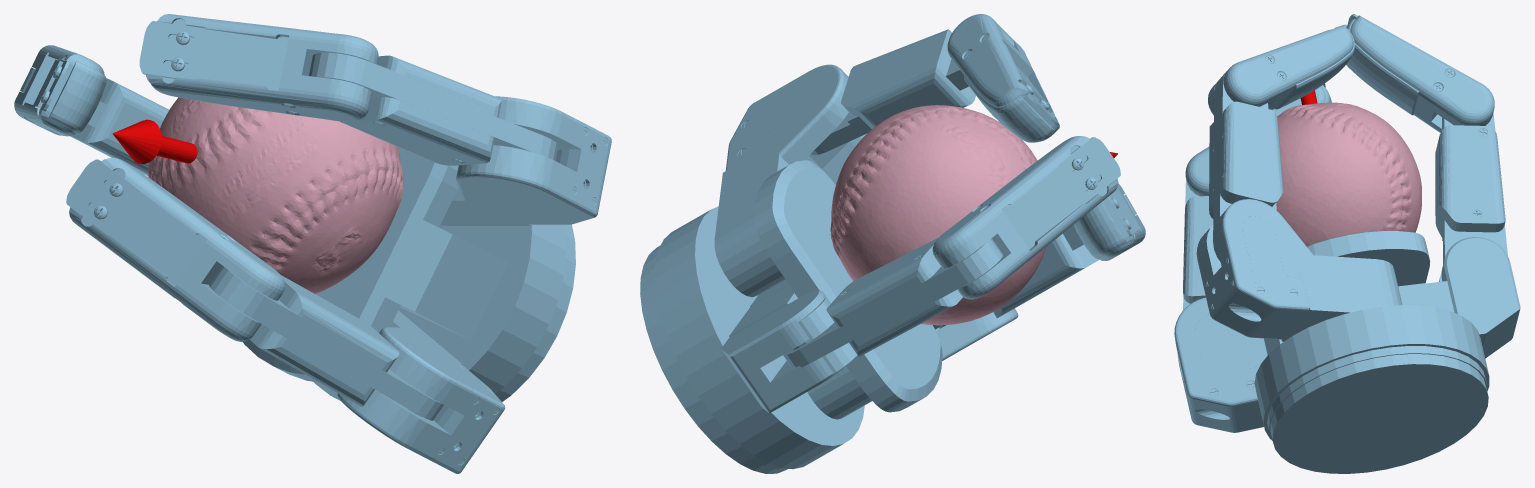
3 views of the same model, side by side, from view 1: azimuth 30°, elevation 25°; view 2: azimuth 150°, elevation 25°; view 3: azimuth 270°, elevation 25° (orthographic). The views are drawn at different scales.
Visible parts, largest first — view 1: world, baseball.stl; view 2: world, baseball.stl; view 3: world, baseball.stl.
Boxes of the visible parts, <box> form: world: <box>14,14,611,473</box>; baseball.stl: <box>148,97,403,293</box>; world: <box>640,14,1145,473</box>; baseball.stl: <box>830,105,1046,325</box>; world: <box>1174,14,1520,473</box>; baseball.stl: <box>1276,102,1421,246</box>.
Size of the model in its own units: 0.1719 by 0.1532 by 0.1333.
